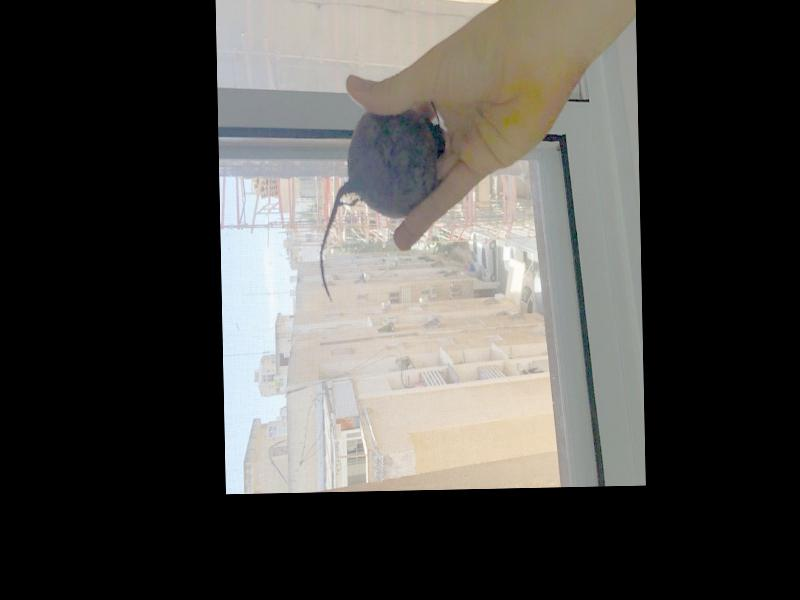Beet: (315, 111, 447, 302)
